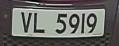1: (79, 11, 88, 35)
5: (54, 11, 68, 36)
9: (68, 12, 81, 36), (86, 11, 98, 34)
L: (32, 11, 49, 36)
V: (19, 11, 33, 34)
